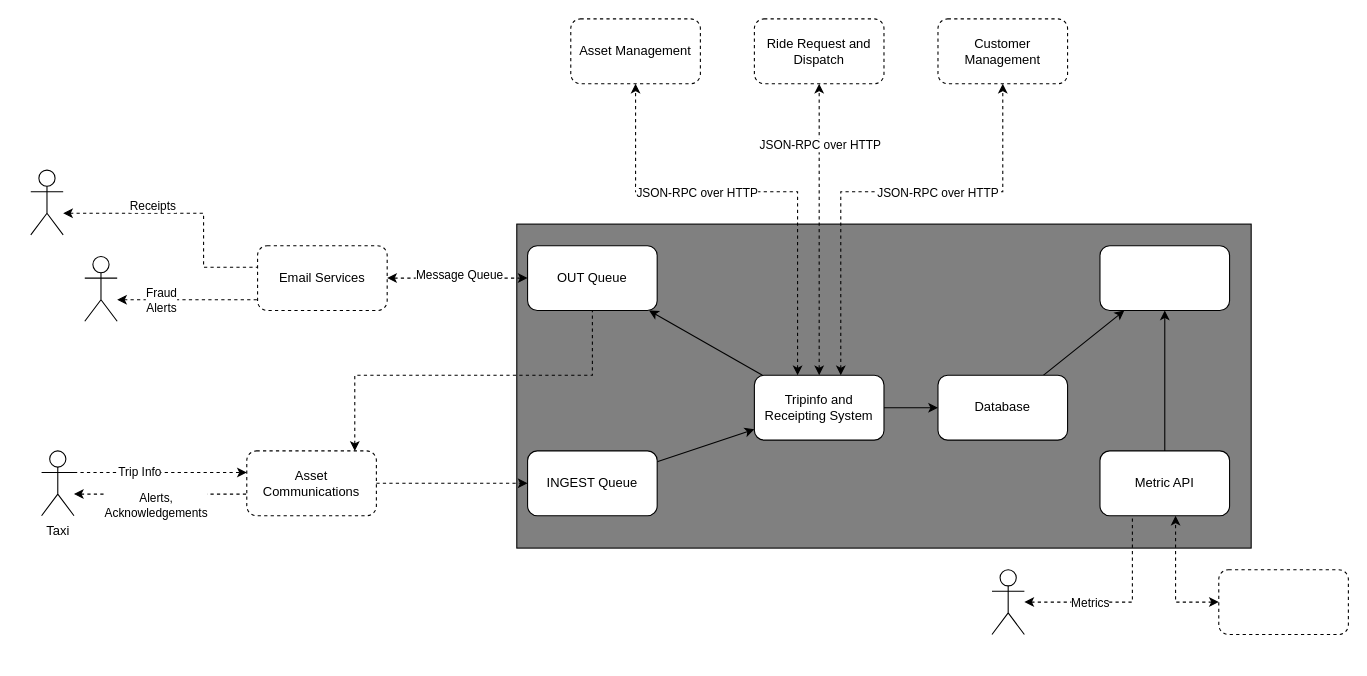
Image size: 1367x676. Some labels were removed from this diagram. Here are the shapes that lost their labels. From the top down, the centre of each, then its label:
At point 46,202: "Customer".
At point 100,288: "Fraud Team".
At point 1164,277: "Metrics Aggregator".
At point 1007,601: "Management".
At point 1283,601: "Identity Provider".
